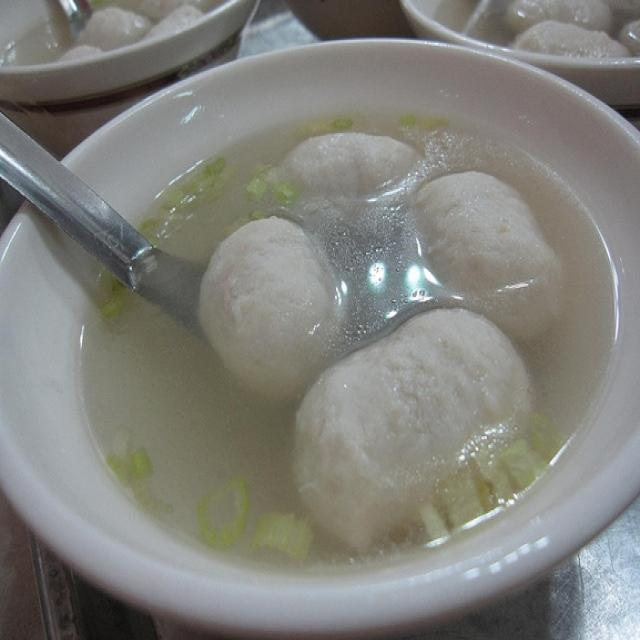熟制海鲜: (63, 90, 569, 575)
